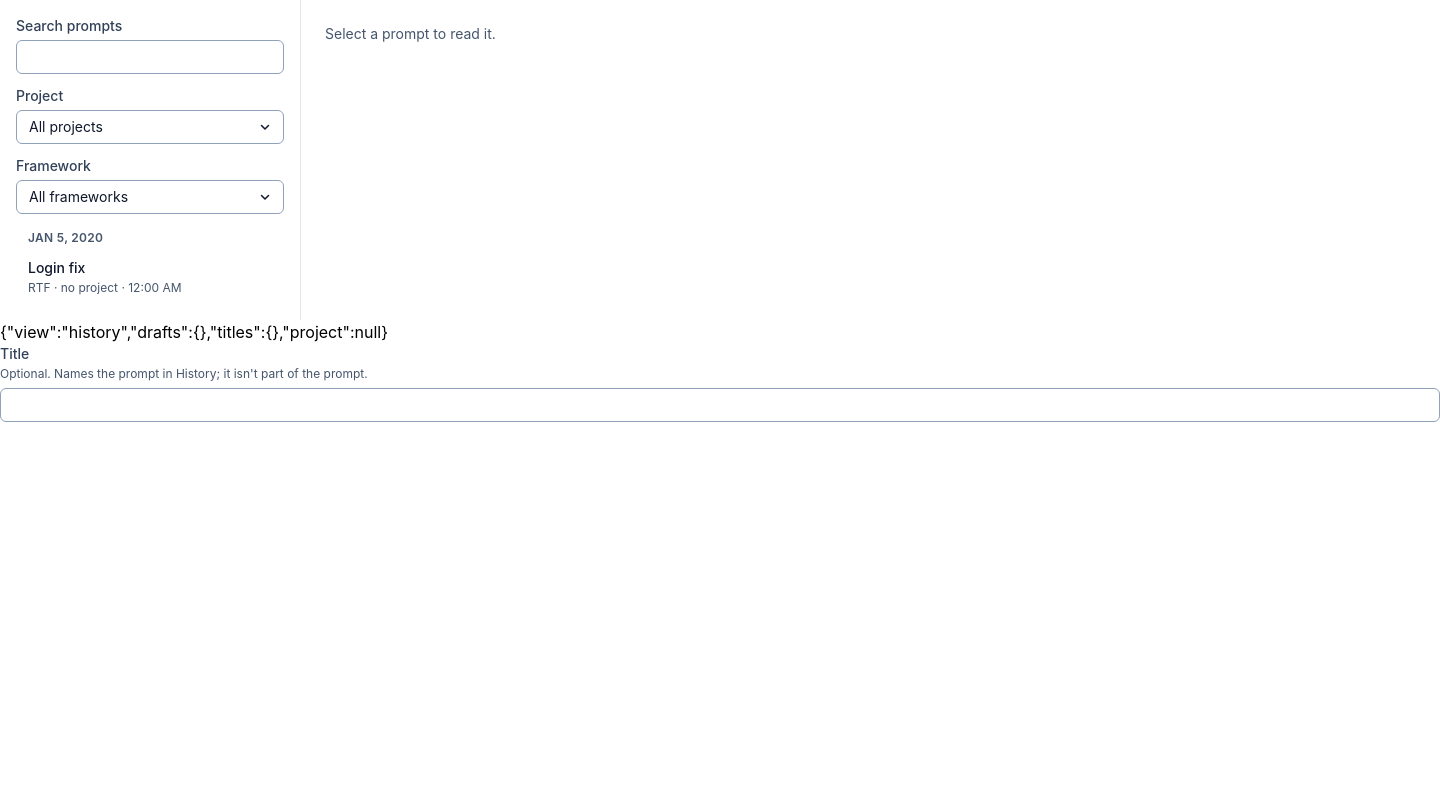
it: OpenInBuilder › a deleted framework › bringing_back_a_renamed_framework_says_its_new_name
The width and height of the screenshot is (1440, 810).
Click the button "Login fix RTF · no project · 12:00 AM" at (150, 277), box top-left (16, 250), bottom-right (284, 304)
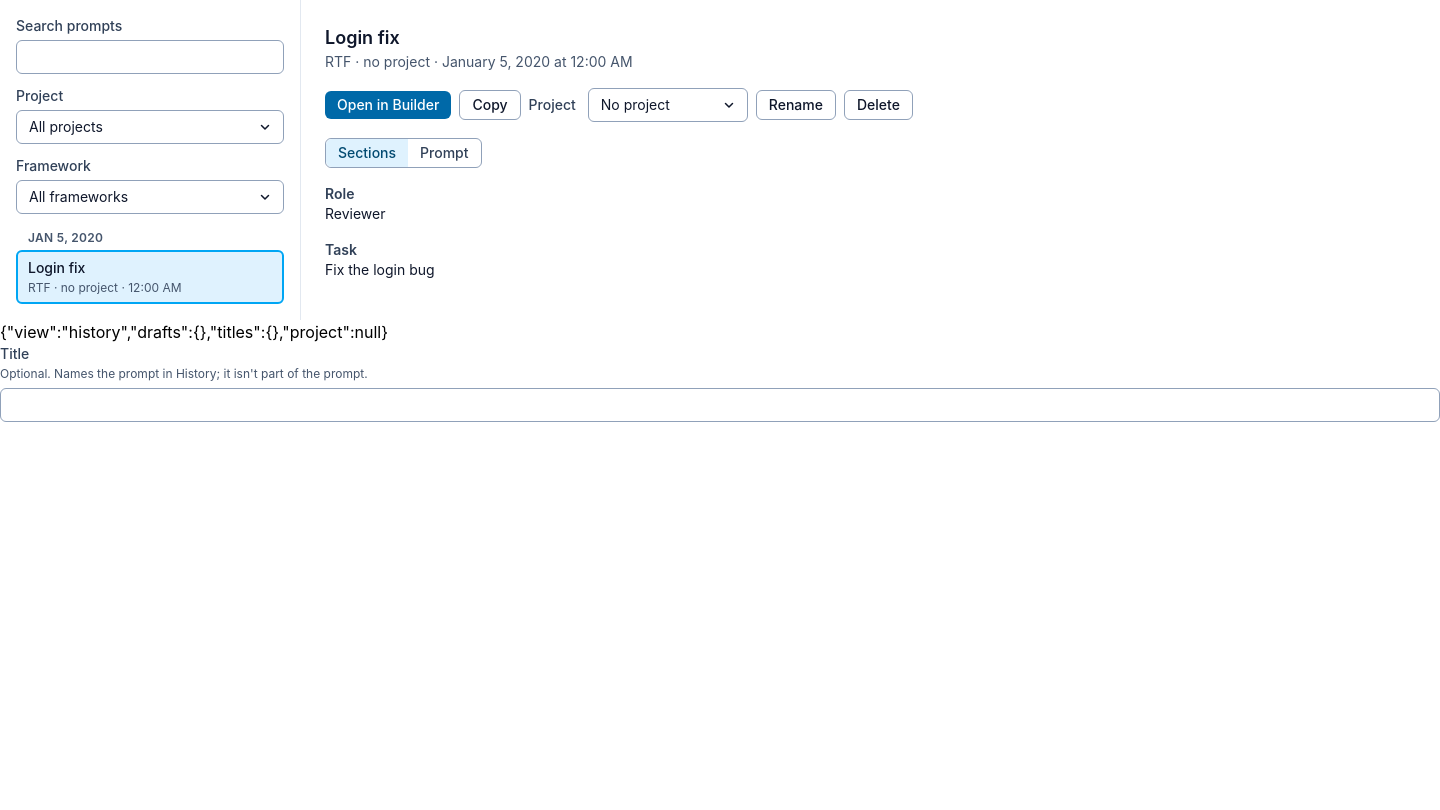
Click the button "Open in Builder" at (388, 105), box top-left (325, 91), bottom-right (451, 119)
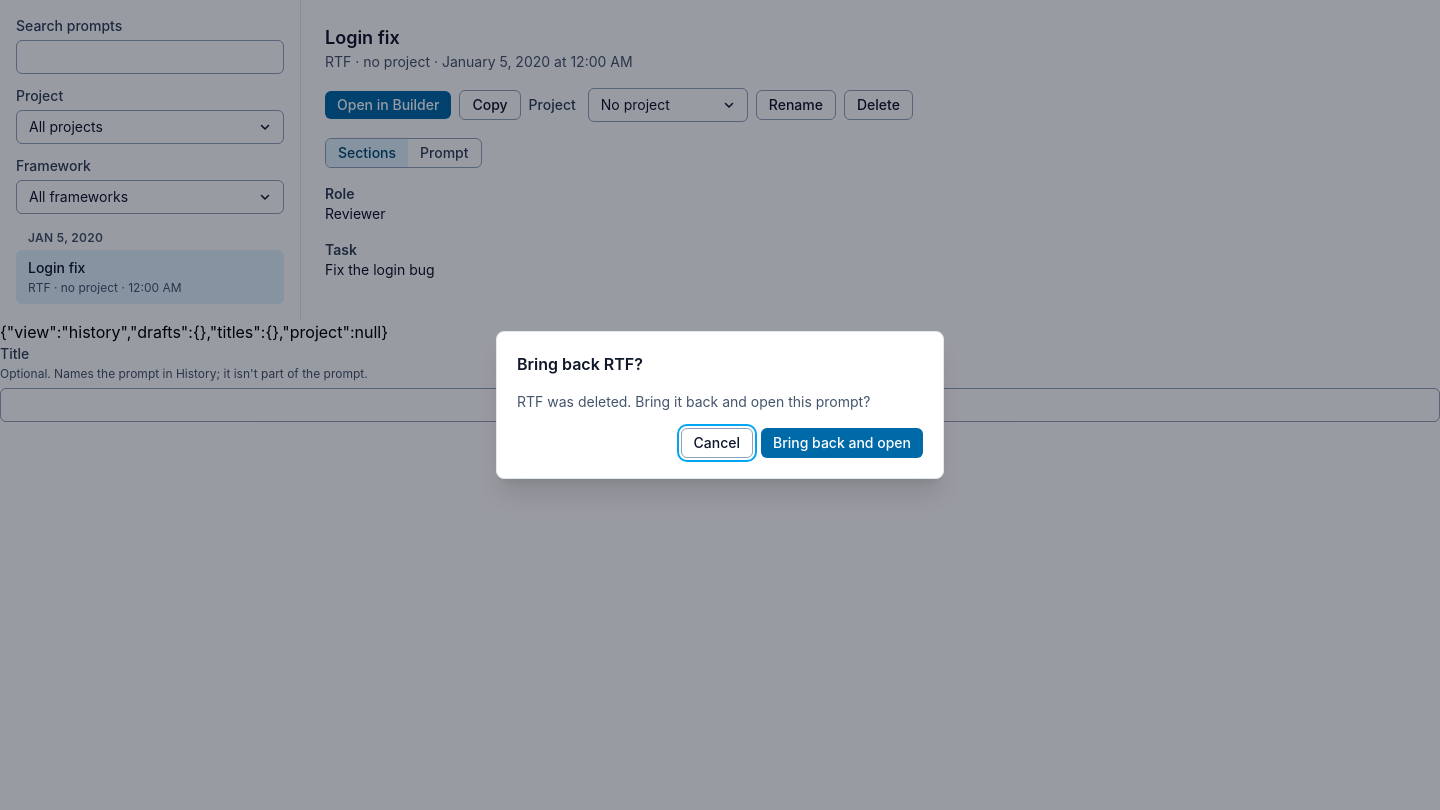
Click the button "Bring back and open" at (842, 443), box top-left (761, 428), bottom-right (923, 458)
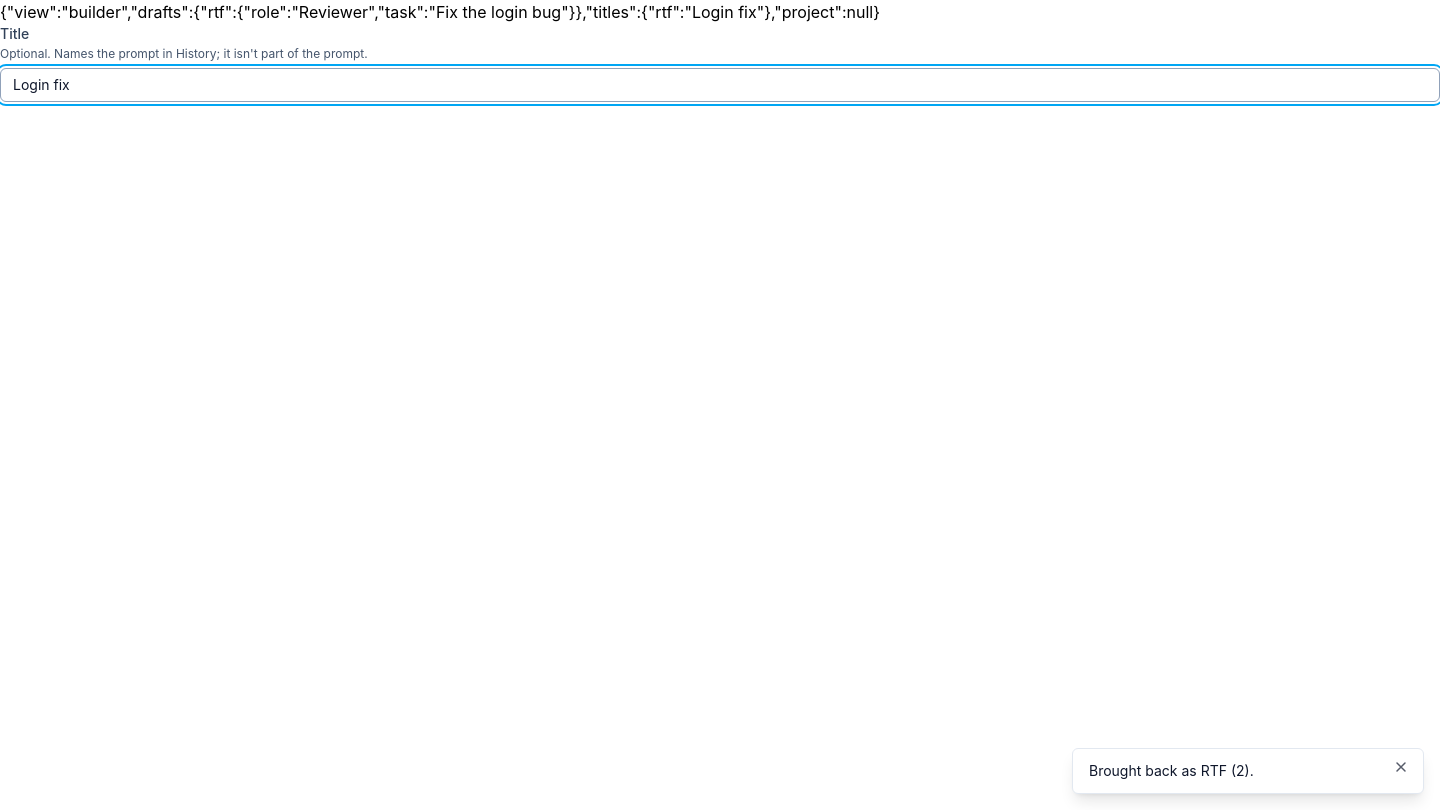
Check: the text "Brought back as RTF (2)." is shown, box top-left (1089, 762), bottom-right (1254, 779)
